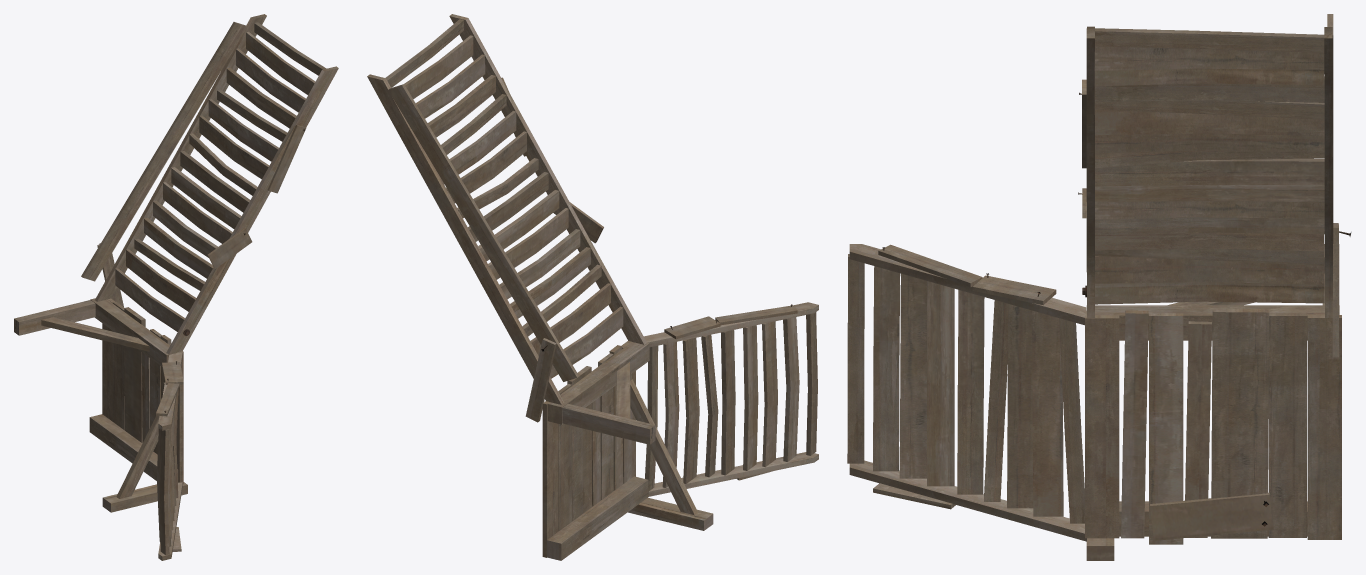
The model's file is props_forest_sawmill_stairs.glb.
3 renders of one model, left to right at view 1: azimuth 30°, elevation 25°; view 2: azimuth 150°, elevation 25°; view 3: azimuth 270°, elevation 25°, orthographic. The views are drawn at different scales.
Visible parts, largest first — view 1: models/props_forest/sawmill_stairs; view 2: models/props_forest/sawmill_stairs; view 3: models/props_forest/sawmill_stairs.
Part boxes in pixels (bbox=[...]): models/props_forest/sawmill_stairs: bbox=[14, 14, 338, 560]; models/props_forest/sawmill_stairs: bbox=[367, 14, 818, 560]; models/props_forest/sawmill_stairs: bbox=[847, 14, 1351, 560].
Size of the model in its own units: 216 by 324 by 229.
2 materials, 2 textured.
